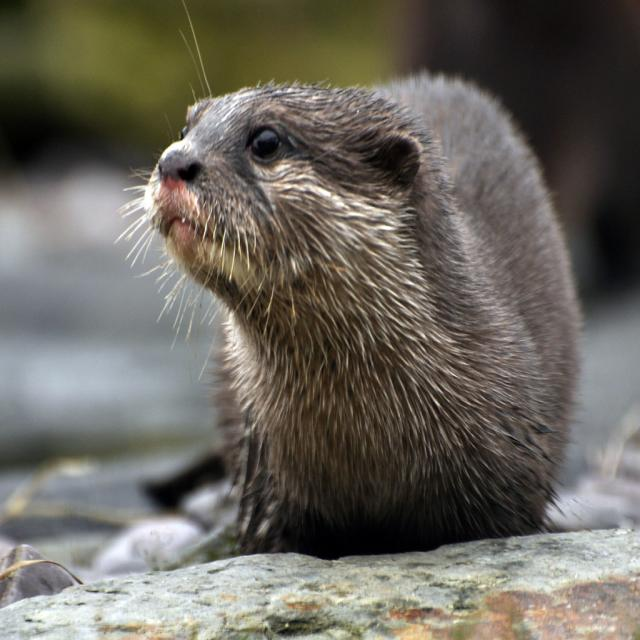otter: (147, 72, 571, 542)
